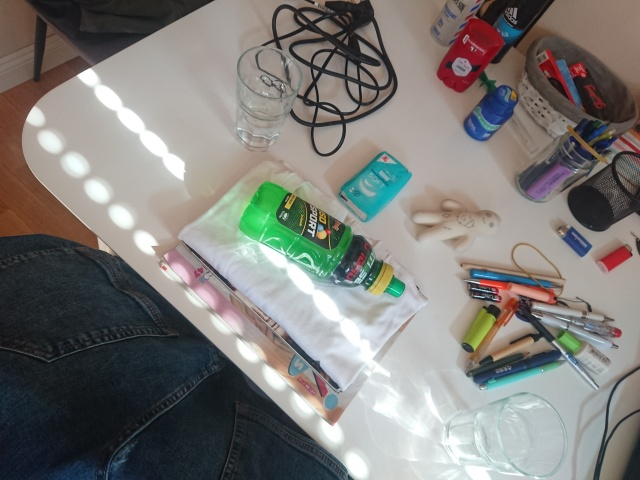Vindi Iso Sport Lemon-Grapefruit 500mL: (235, 179, 408, 300)
